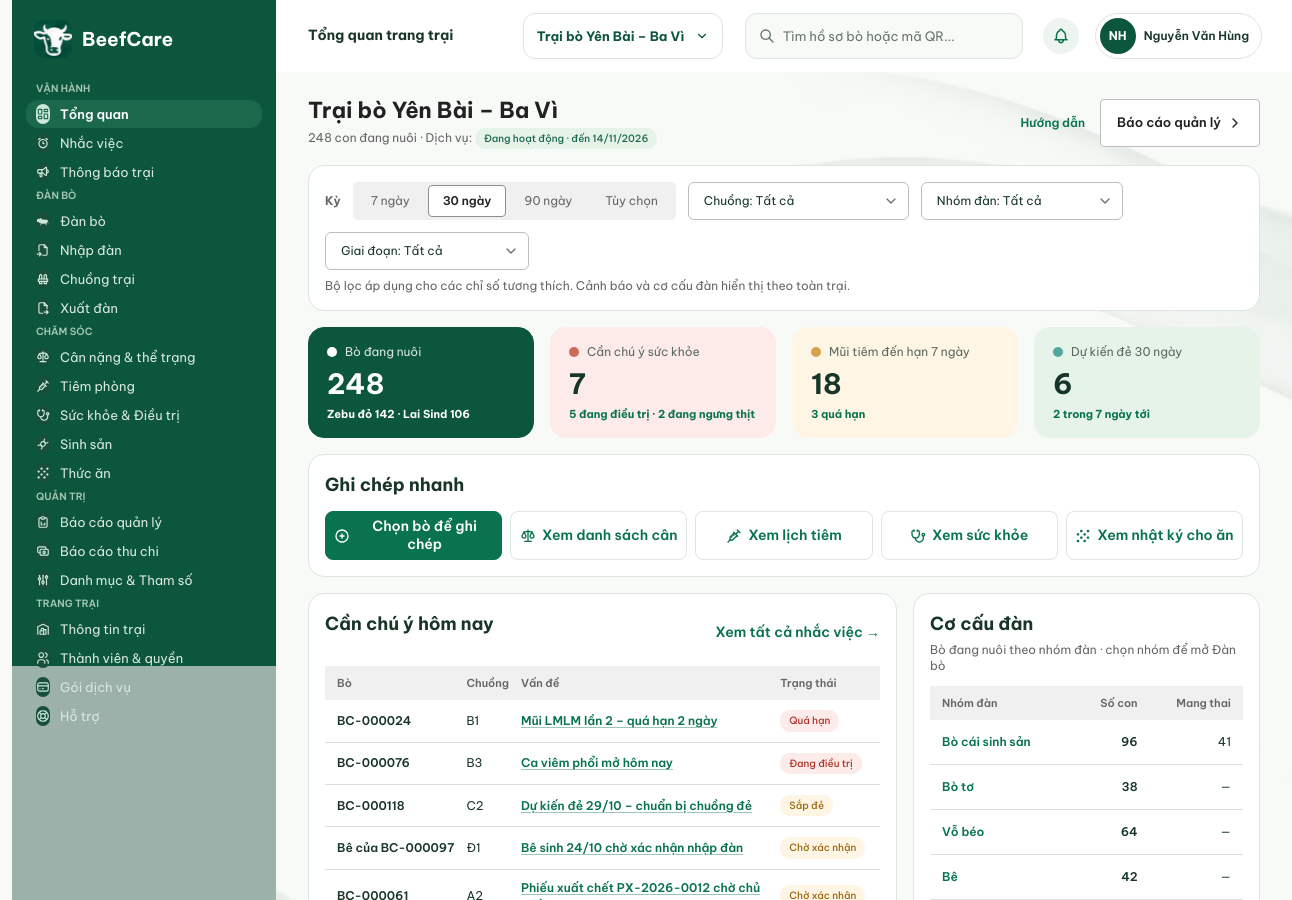
Test: farm dashboard › explains why ADG is missing for a 7 day period
Step 1. Click the button "7 ngày" → [390, 201], box top-left (356, 185), bottom-right (425, 217)
(page scrolled)
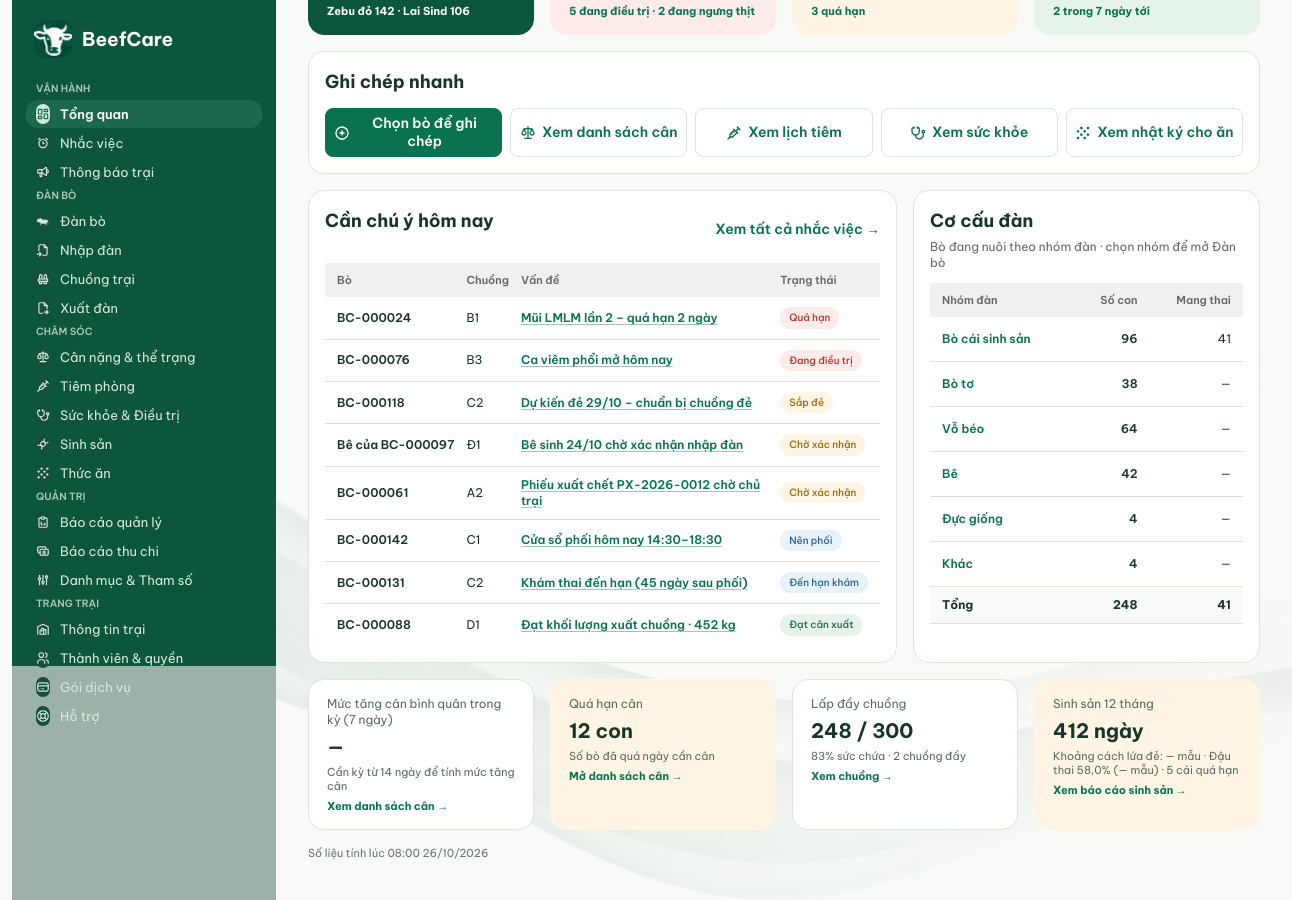
Now the text "Cần kỳ từ 14 ngày để tính mức tăng cân" is shown, box top-left (327, 765), bottom-right (515, 793)
